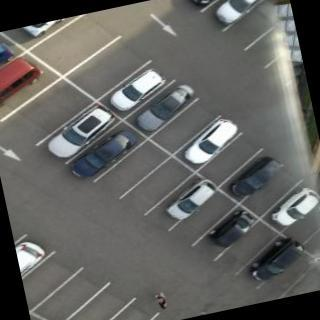car: (39, 101, 122, 162), (63, 128, 144, 182), (129, 81, 205, 134), (176, 115, 245, 167), (218, 153, 289, 203), (244, 234, 310, 285), (103, 65, 172, 113), (161, 176, 223, 223), (1, 51, 51, 108), (263, 184, 320, 231), (205, 207, 261, 250), (208, 1, 274, 29)
parking-space: (1, 70, 106, 154), (54, 28, 160, 111), (20, 7, 129, 86), (113, 150, 205, 220), (87, 136, 180, 204), (140, 93, 230, 161), (22, 260, 120, 320), (205, 214, 291, 281), (161, 183, 245, 251), (188, 127, 271, 195), (232, 159, 311, 222), (250, 245, 320, 304), (50, 276, 142, 320)
